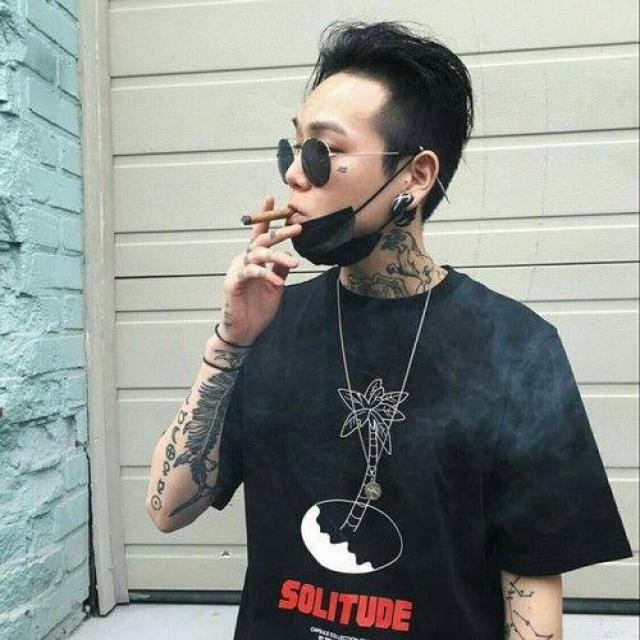cigarette: (227, 184, 304, 247)
